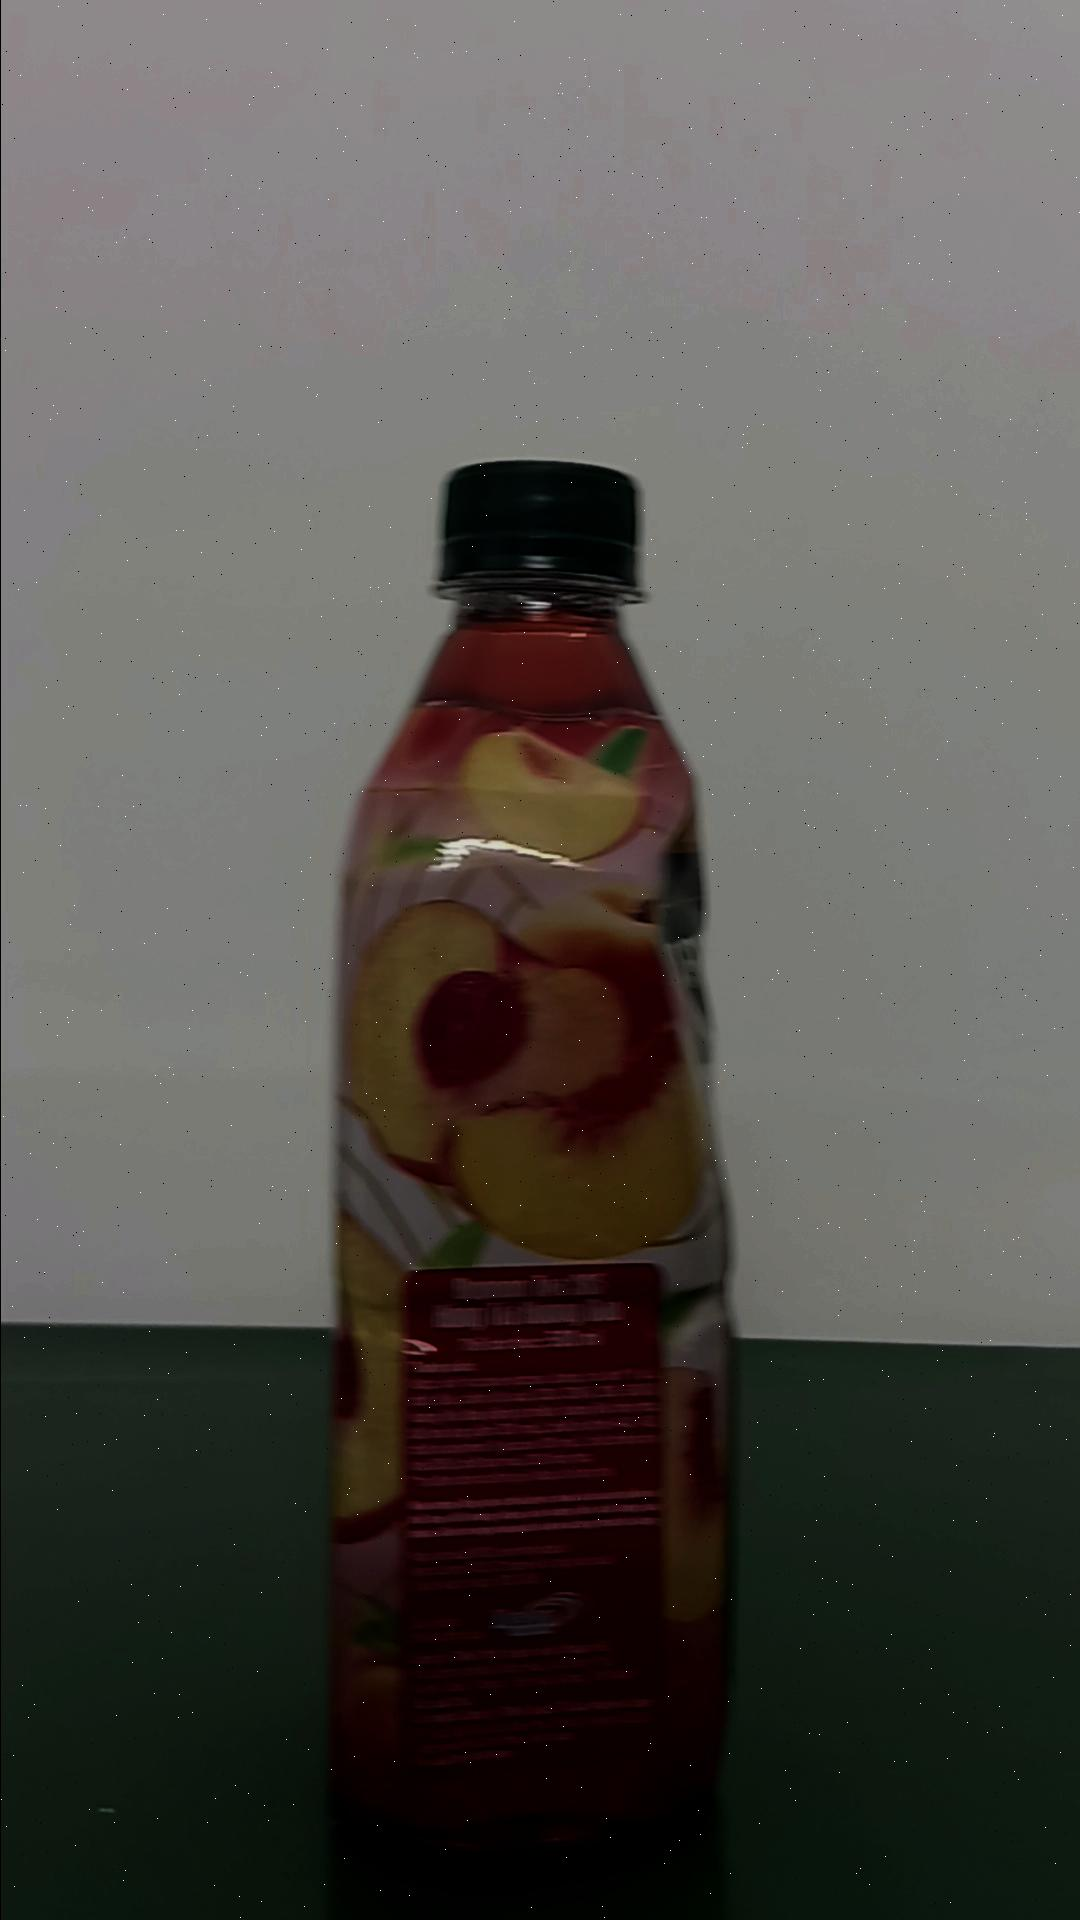loi meo sp: (324, 456, 738, 1855)
